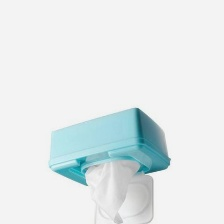plastic_box: (42, 103, 177, 223)
tissue: (82, 155, 144, 224)
